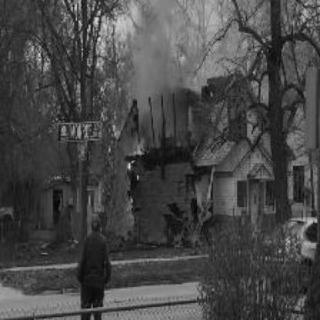Fire: (133, 136, 146, 156)
Smoke: (130, 34, 178, 136)
